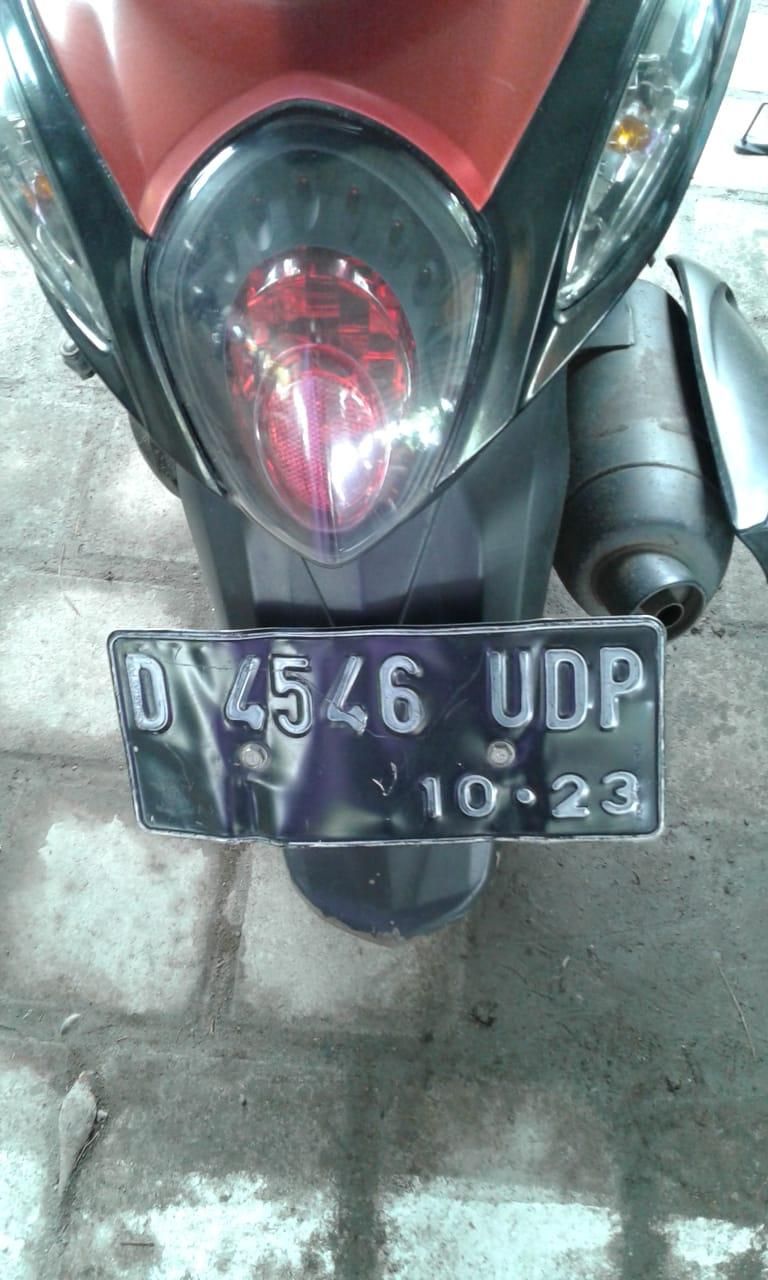plat: (108, 618, 662, 845)
